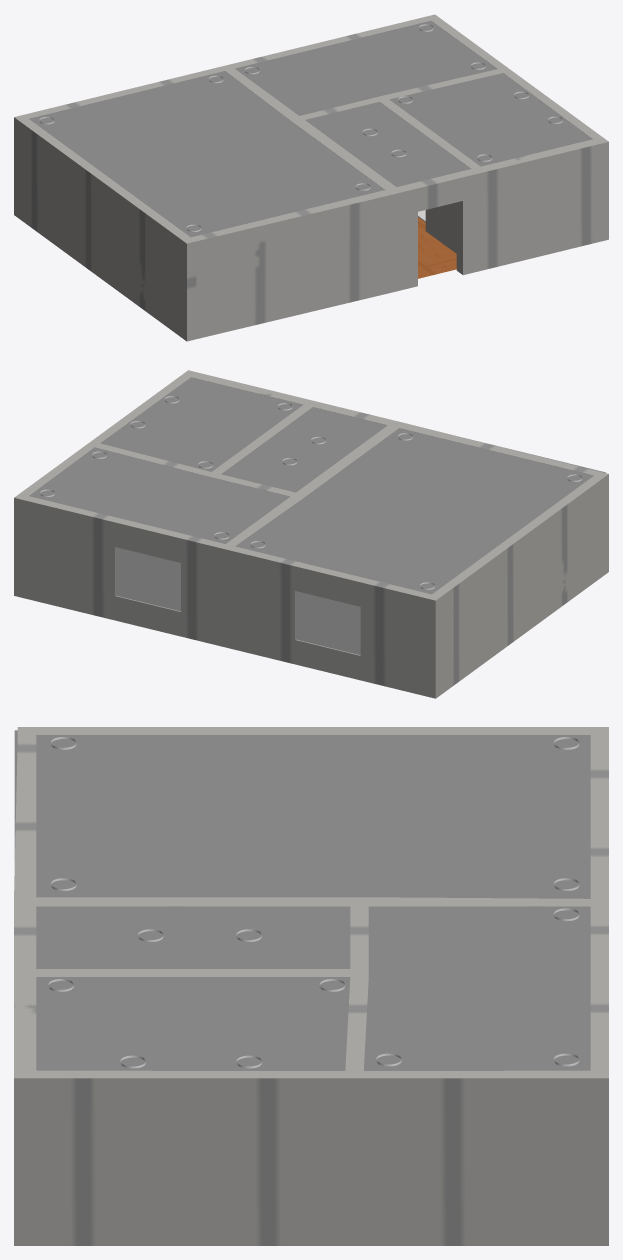
File: flat.fbx
3 views of the same model, one above another, from view 1: azimuth 30°, elevation 25°; view 2: azimuth 150°, elevation 25°; view 3: azimuth 270°, elevation 25° (orthographic). The views are drawn at different scales.
Parts seen in each view (by area): view 1: Walls, Krisha, Floor, Lamp; view 2: Walls, Krisha, Window, Lamp; view 3: Krisha, Walls, Lamp.
Part boxes in pixels (x1=…): Walls: x1=14, y1=14, x2=608, y2=341; Krisha: x1=29, y1=21, x2=592, y2=243; Floor: x1=418, y1=217, x2=457, y2=278; Lamp: x1=39, y1=24, x2=562, y2=231; Walls: x1=14, y1=370, x2=608, y2=698; Krisha: x1=29, y1=377, x2=605, y2=594; Window: x1=116, y1=547, x2=360, y2=655; Lamp: x1=40, y1=396, x2=582, y2=589; Krisha: x1=14, y1=730, x2=590, y2=1070; Walls: x1=14, y1=727, x2=608, y2=1245; Lamp: x1=48, y1=737, x2=579, y2=1068.
Size of the model in its own units: 450 by 101 by 322.
